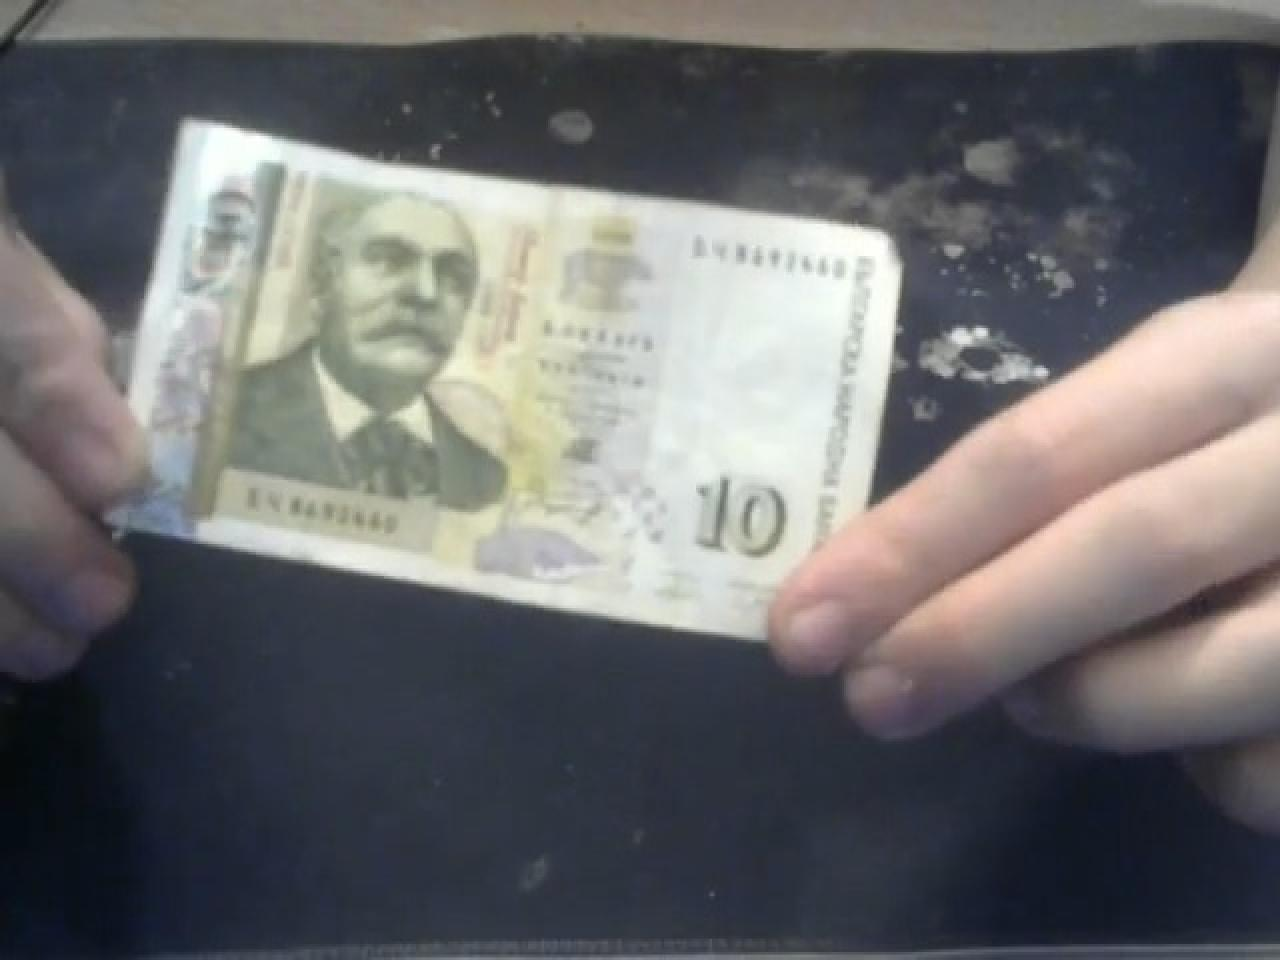10leva: (668, 449, 814, 594)
